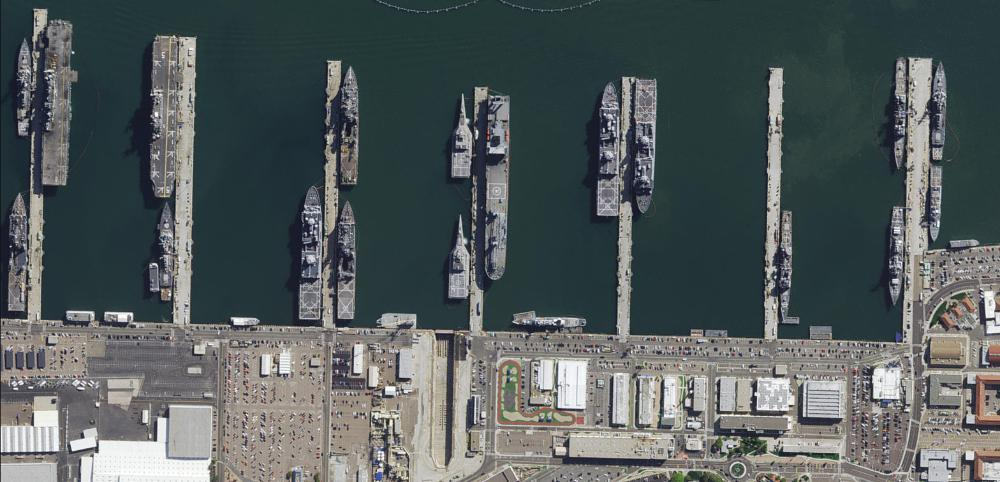amphiby: (632, 74, 659, 215), (598, 78, 623, 218), (299, 183, 322, 322), (338, 63, 363, 188), (336, 198, 359, 320), (8, 191, 30, 316)
destroyer: (778, 207, 794, 323), (894, 56, 906, 169)
fregate: (154, 202, 176, 304), (11, 35, 32, 137), (931, 57, 948, 161), (889, 203, 905, 309)
littoral combat ship: (448, 88, 476, 184), (446, 212, 471, 301)
pha: (42, 15, 77, 190), (150, 32, 180, 200)
supply: (484, 92, 518, 287)
